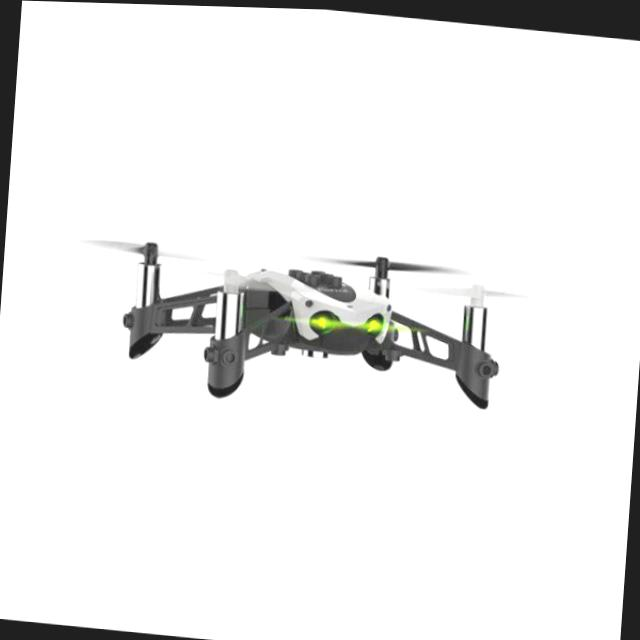drone: (47, 189, 569, 431)
